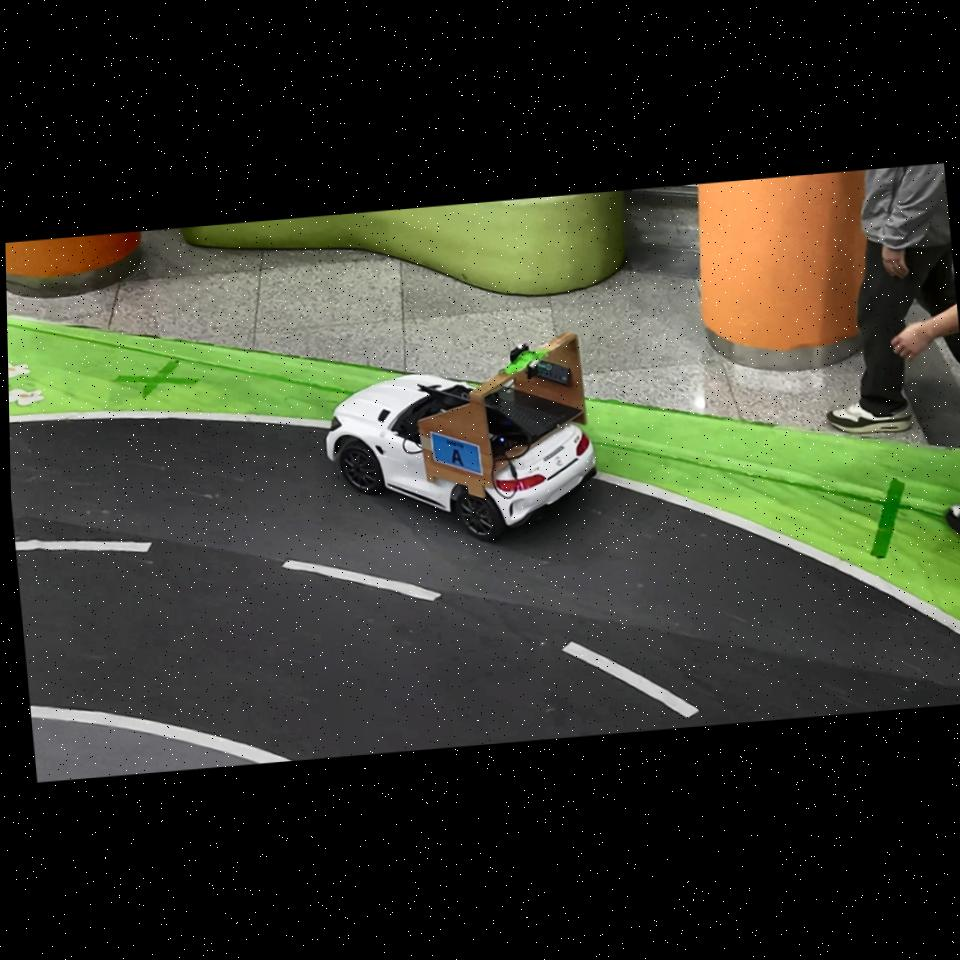broken_line: (561, 641, 699, 718), (283, 560, 441, 601), (15, 540, 153, 552)
